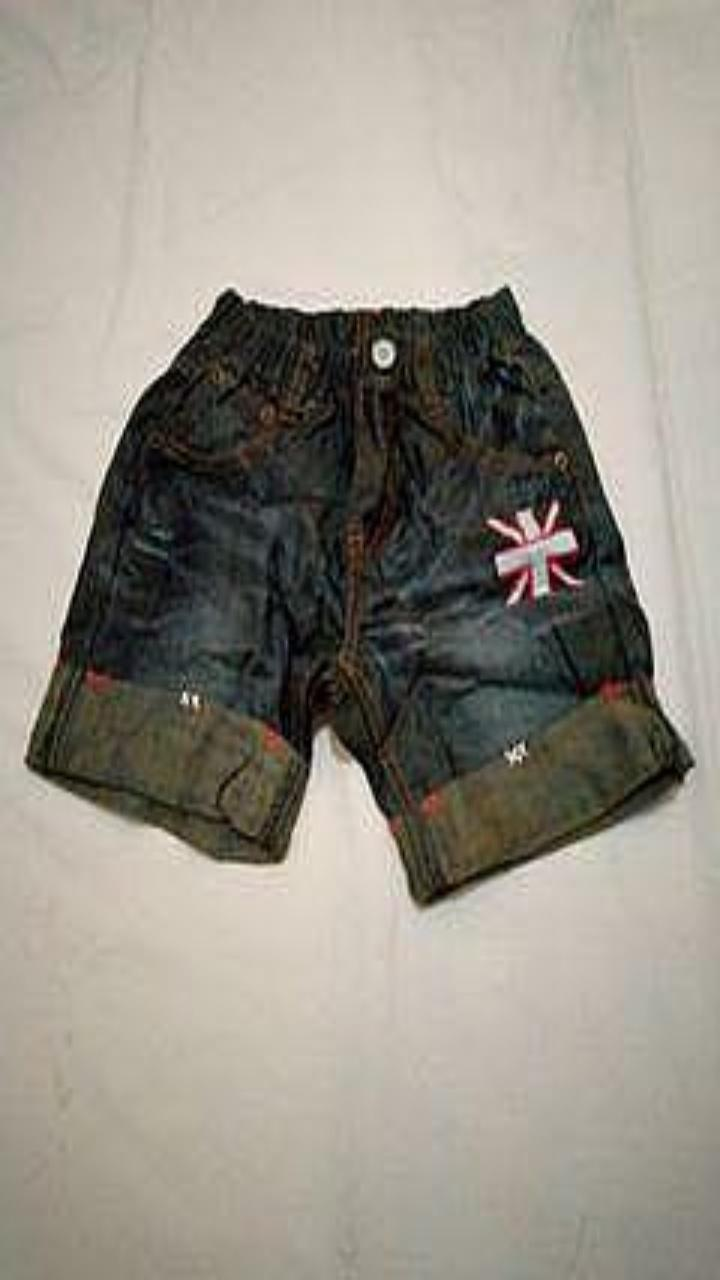Shorts: (25, 285, 694, 902)
